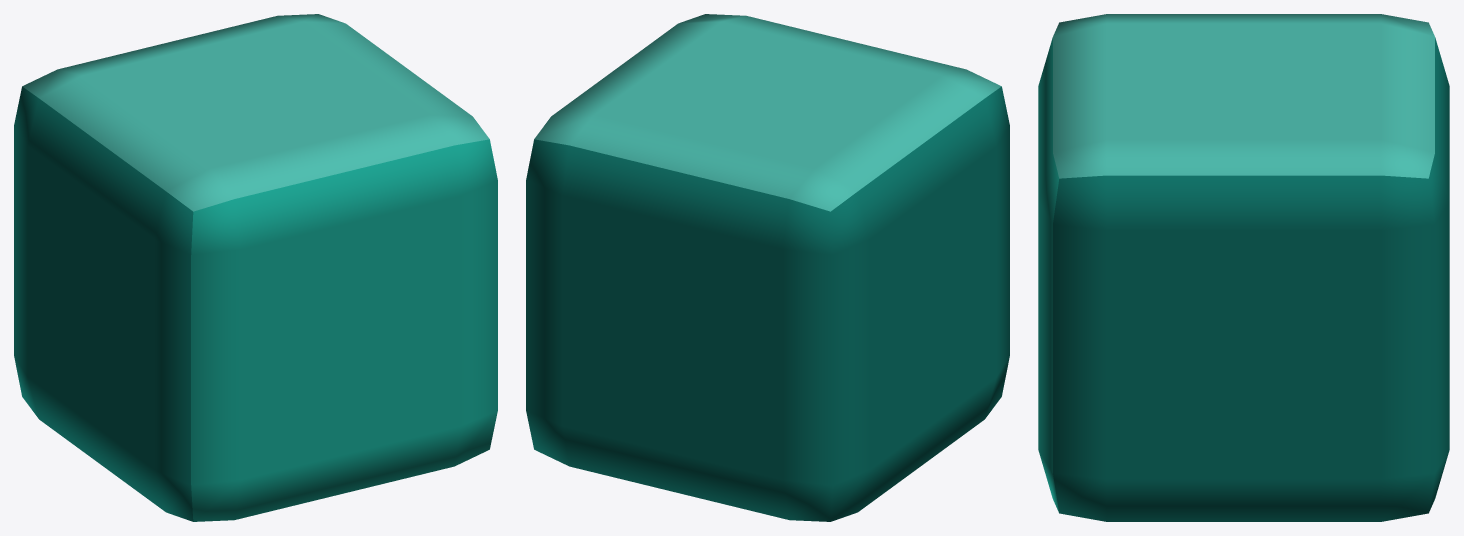
The model's file is cube-teal.glb.
The picture shows the model from 3 angles, left to right: view 1: azimuth 30°, elevation 25°; view 2: azimuth 150°, elevation 25°; view 3: azimuth 270°, elevation 25°; orthographic projection. The views are drawn at different scales.
Visible parts, largest first — view 1: Cube_Teal; view 2: Cube_Teal; view 3: Cube_Teal.
Part boxes in pixels (x1=…): Cube_Teal: x1=14, y1=14, x2=497, y2=521; Cube_Teal: x1=526, y1=14, x2=1009, y2=521; Cube_Teal: x1=1038, y1=14, x2=1449, y2=521.
Bounding box in the file's own units: 1 × 1 × 1.
